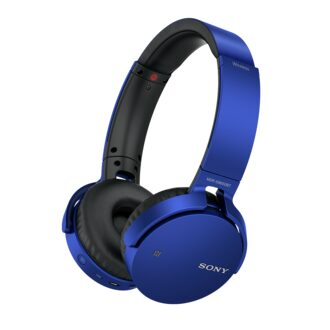Headphone: (60, 14, 263, 307)
